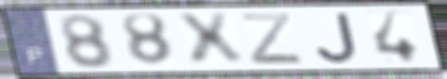4: (373, 9, 424, 66)
8: (59, 13, 116, 70), (120, 12, 173, 69)
J: (313, 11, 361, 65)
X: (172, 10, 250, 68)
Z: (237, 12, 307, 66)
